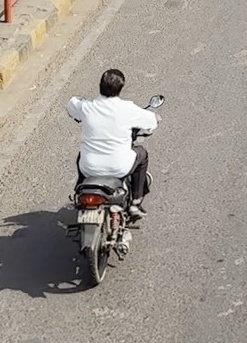BikeWithRider: (63, 65, 167, 285)
NoHelmet: (98, 66, 129, 100)
